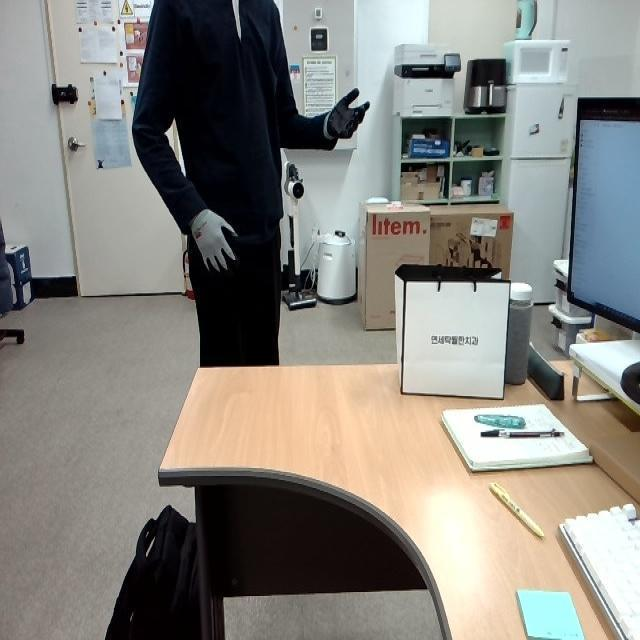gloved_hand: (185, 205, 240, 278), (323, 85, 374, 148)
